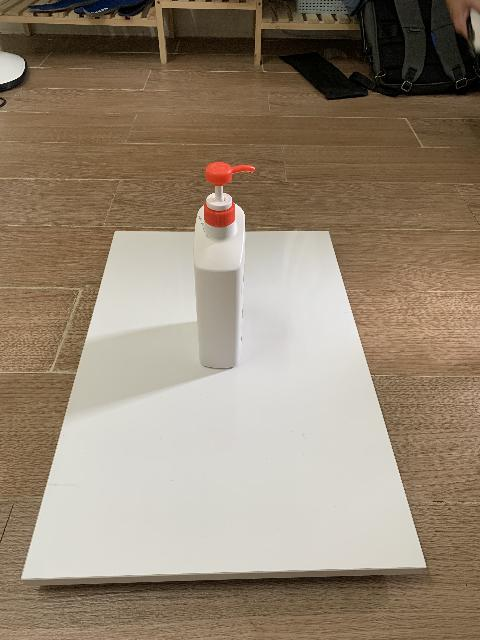life-buoy: (193, 188, 246, 373), (193, 191, 246, 373)
